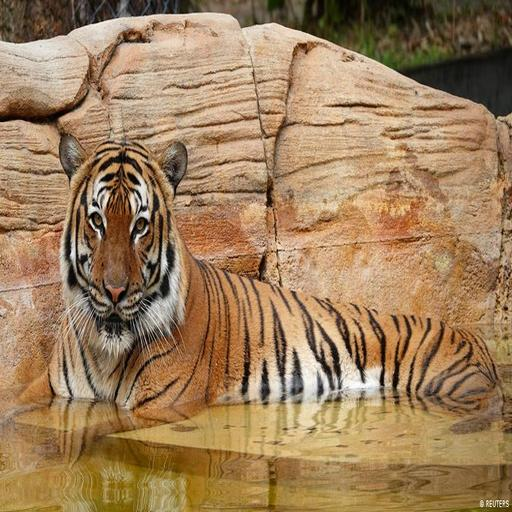Tiger: (20, 134, 512, 466)
